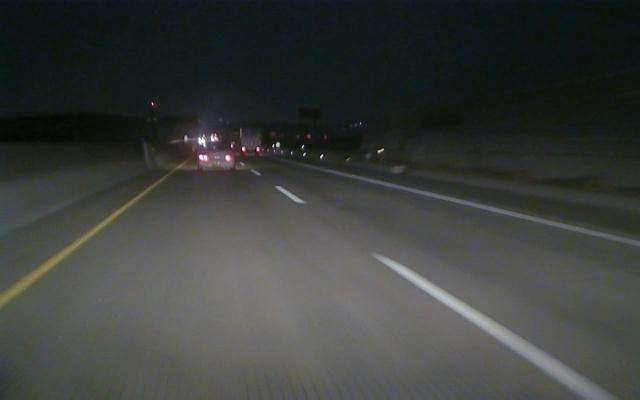lane: (278, 184, 614, 399), (321, 168, 640, 249), (1, 190, 147, 308)
